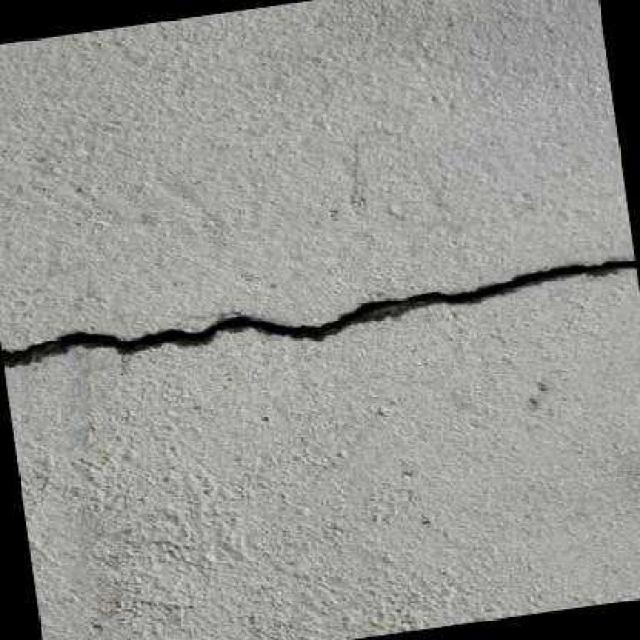D00: (0, 254, 635, 368)
